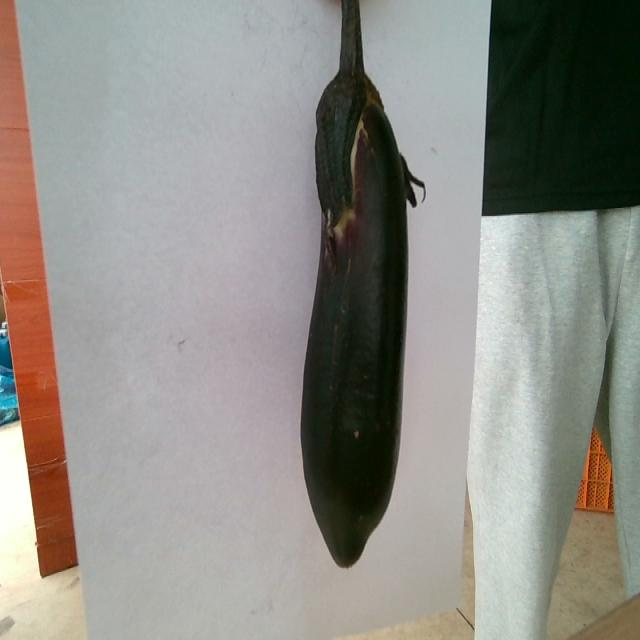Egg plant: (301, 0, 423, 565)
